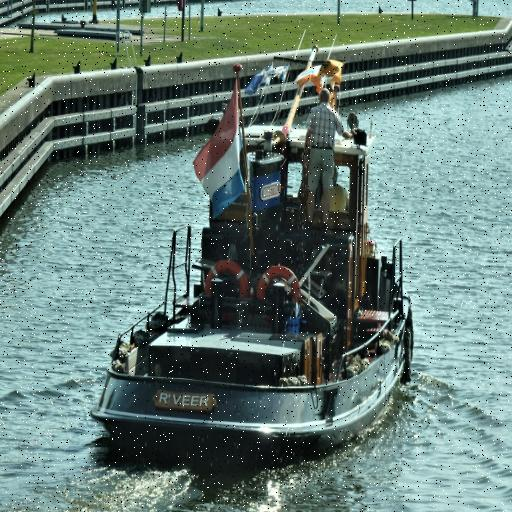tugboat: (87, 25, 418, 475)
